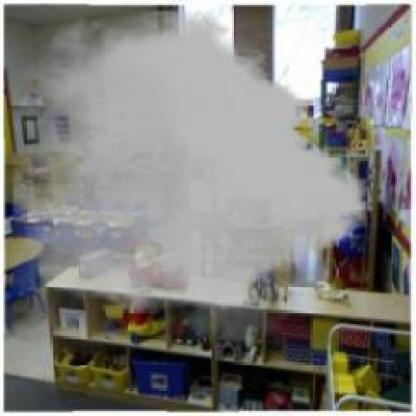Smoke: (14, 5, 367, 354)
